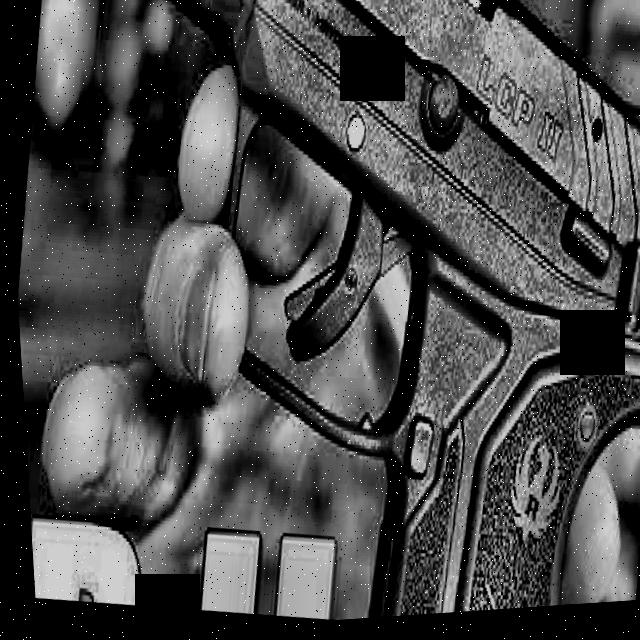Ruger: (62, 0, 640, 637)
